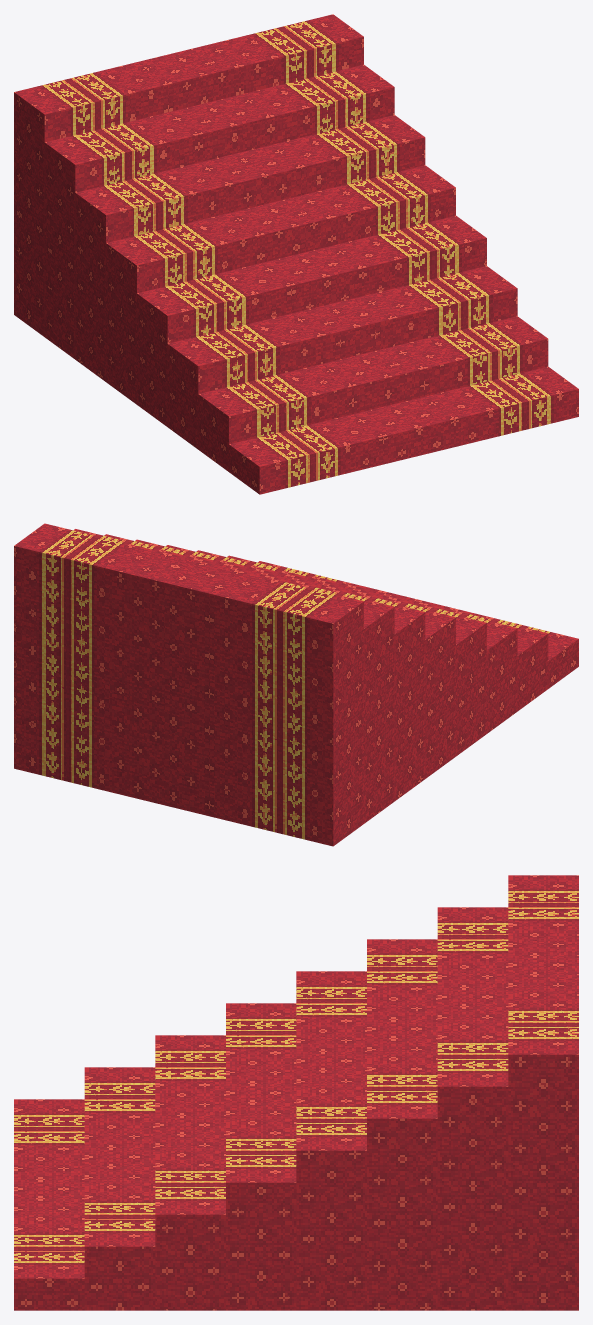
File: stairs_carpet.glb
3 views of the same model, one above another, from view 1: azimuth 30°, elevation 25°; view 2: azimuth 150°, elevation 25°; view 3: azimuth 270°, elevation 25° (orthographic). The views are drawn at different scales.
Visible parts, largest first — view 1: Step_0; view 2: Step_0; view 3: Step_0.
Boxes of the visible parts, x1,y1,x2,y2 form: Step_0: [14, 14, 578, 494]; Step_0: [14, 523, 578, 846]; Step_0: [14, 875, 578, 1310].
Size of the model in its own units: 3 by 2 by 4.
1 material, 1 textured.
